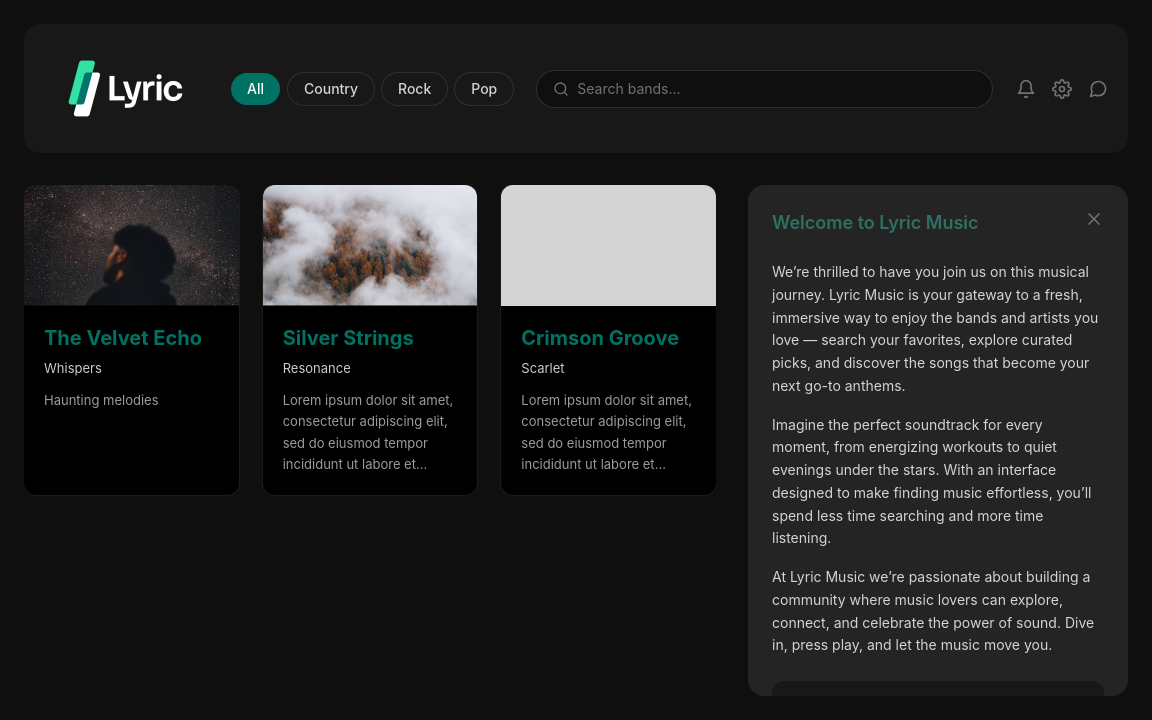
Test: App — catalog behavior › a genre pill narrows results and becomes active
Expected: the button "The Velvet Echo Whispers Haunting melodies" is shown, [24,185,239,495]
Click the button "Rock".
click(415, 88)  # box [382,72,447,104]
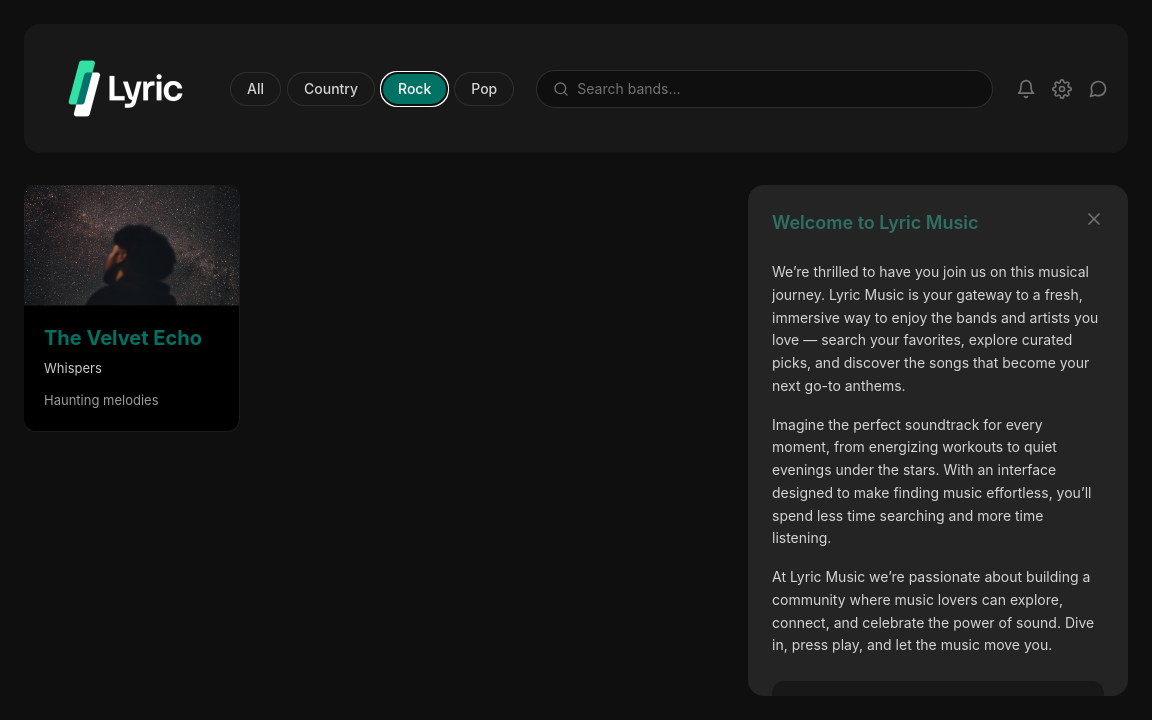
Expected: the button "The Velvet Echo Whispers Haunting melodies" is shown, [24,185,239,431]
Now the button "Silver Strings" is gone
